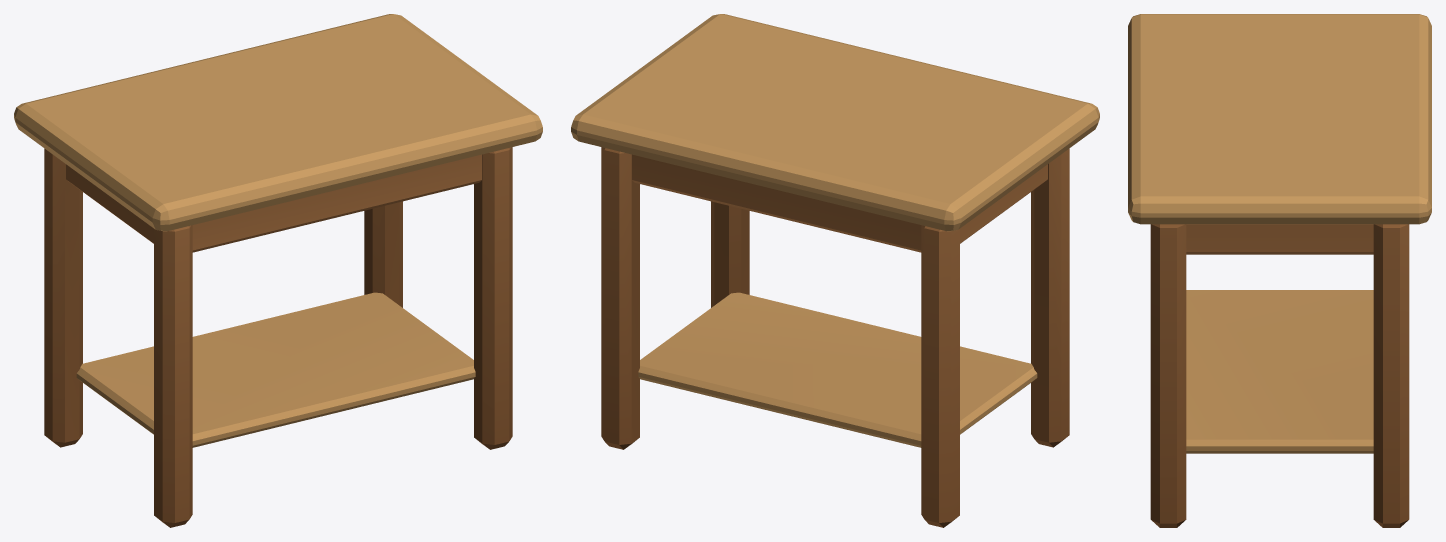
File: meja.glb
3 views of the same model, side by side, from view 1: azimuth 30°, elevation 25°; view 2: azimuth 150°, elevation 25°; view 3: azimuth 270°, elevation 25° (orthographic).
Parts seen in each view (by area): view 1: meja_mesh; view 2: meja_mesh; view 3: meja_mesh.
Boxes of the visible parts, x1,y1,x2,y2 form: meja_mesh: [14, 14, 542, 527]; meja_mesh: [571, 14, 1099, 527]; meja_mesh: [1128, 14, 1431, 527].
Size of the model in its own units: 0.9 by 0.74 by 0.6.
